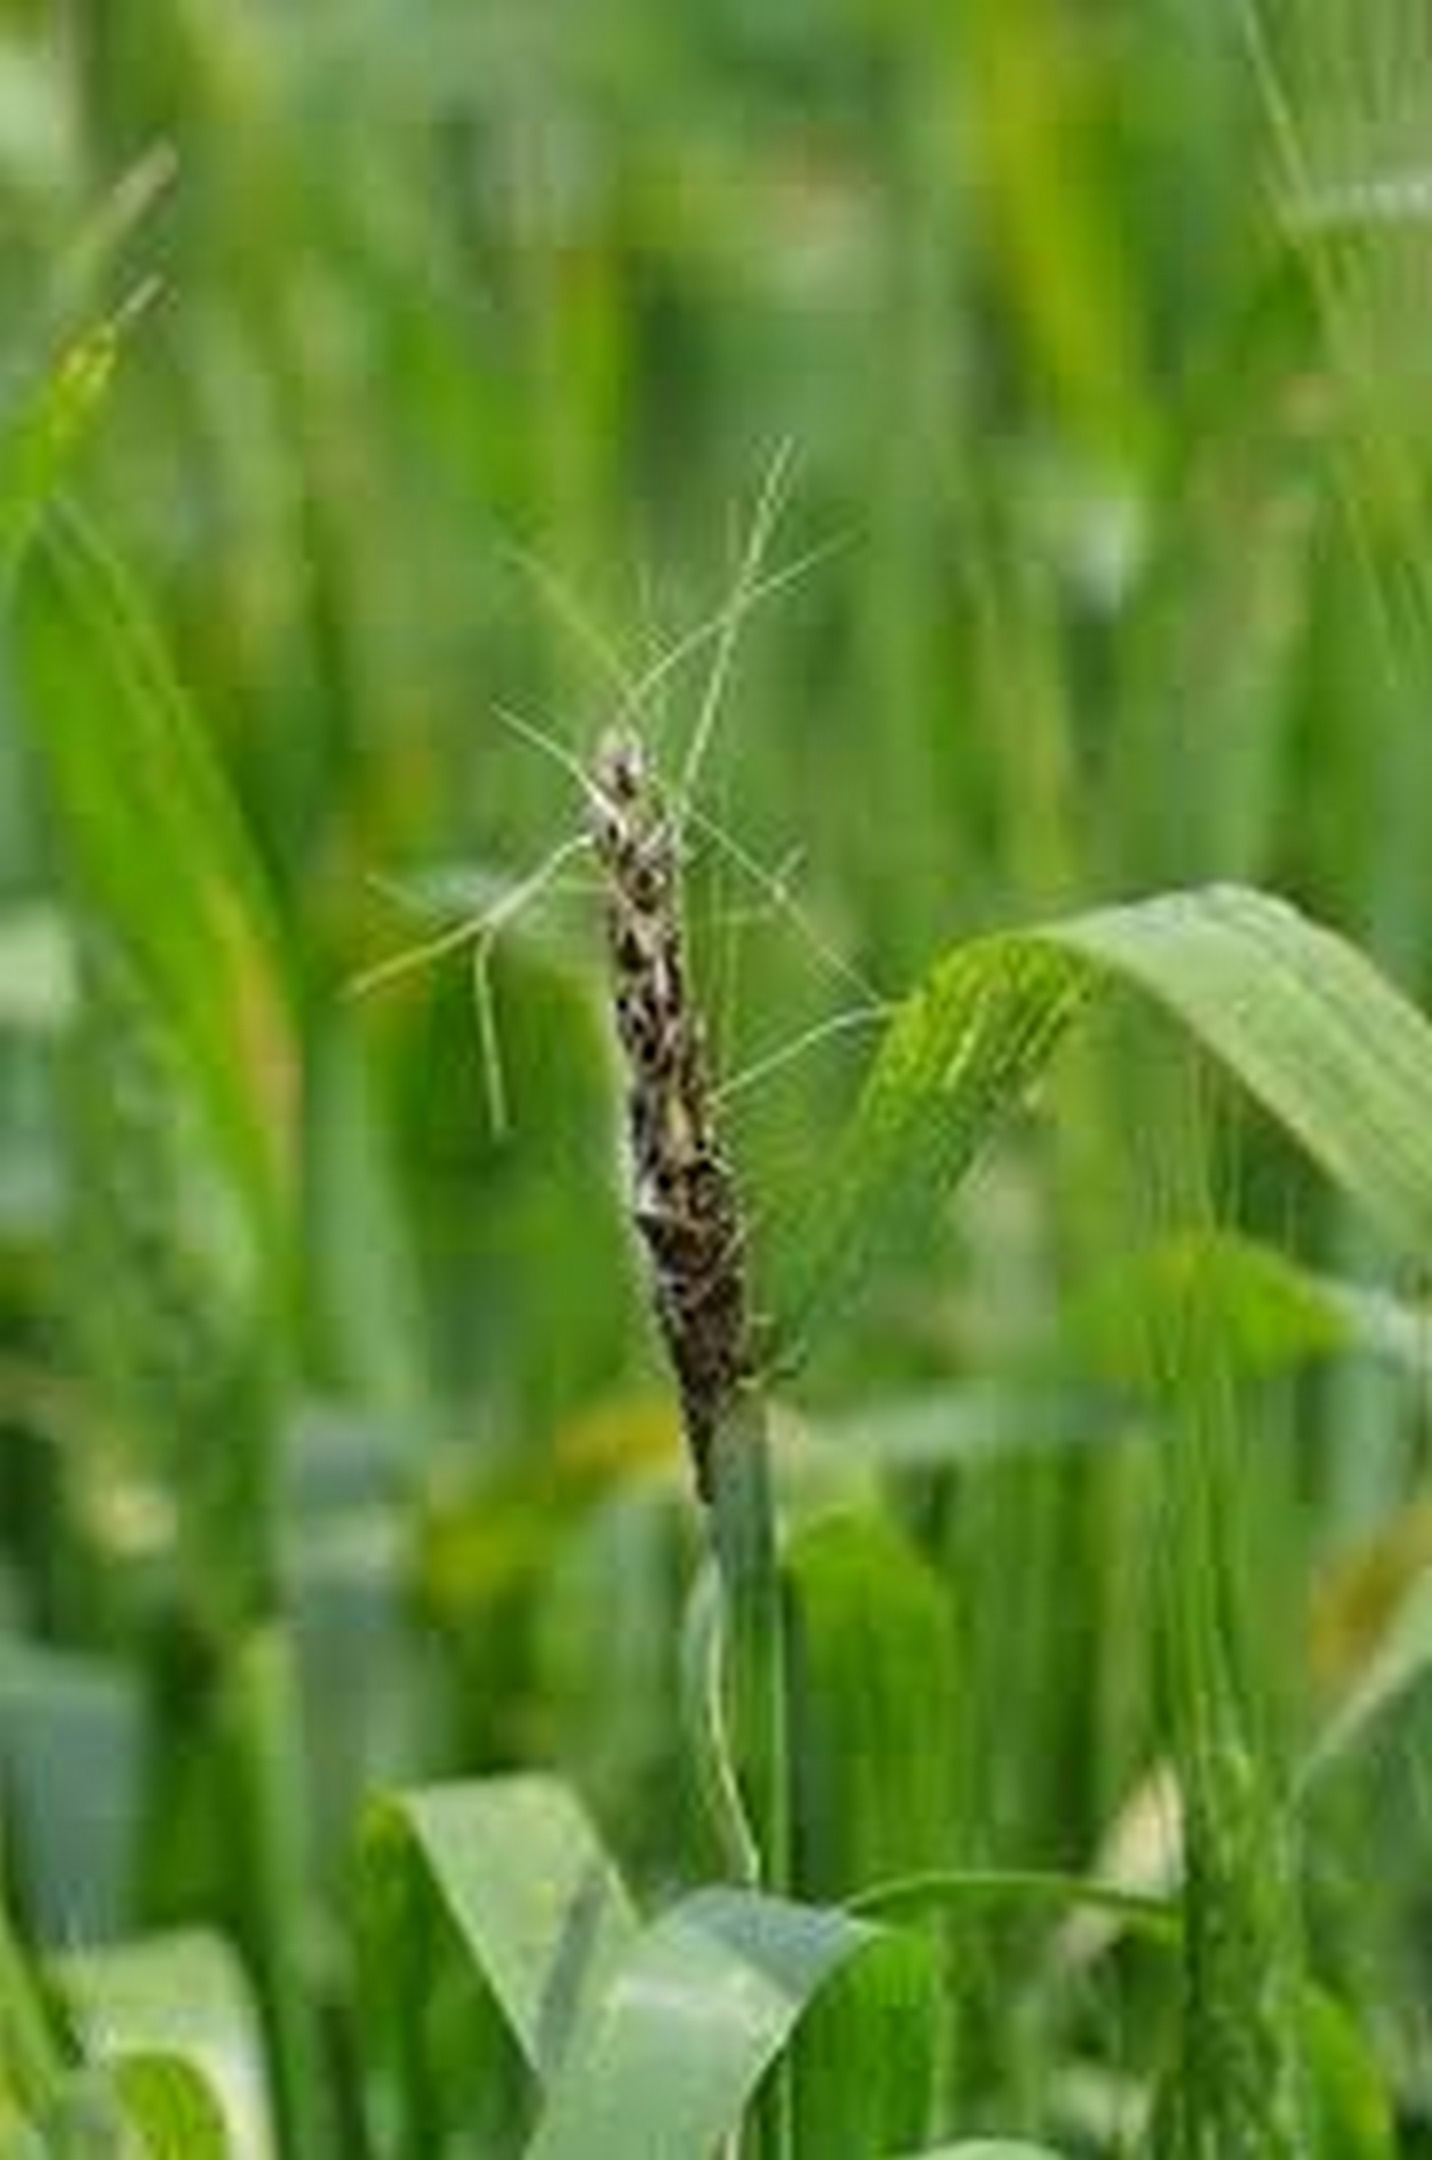Wheat Loose Smut: (535, 732, 794, 1388)
